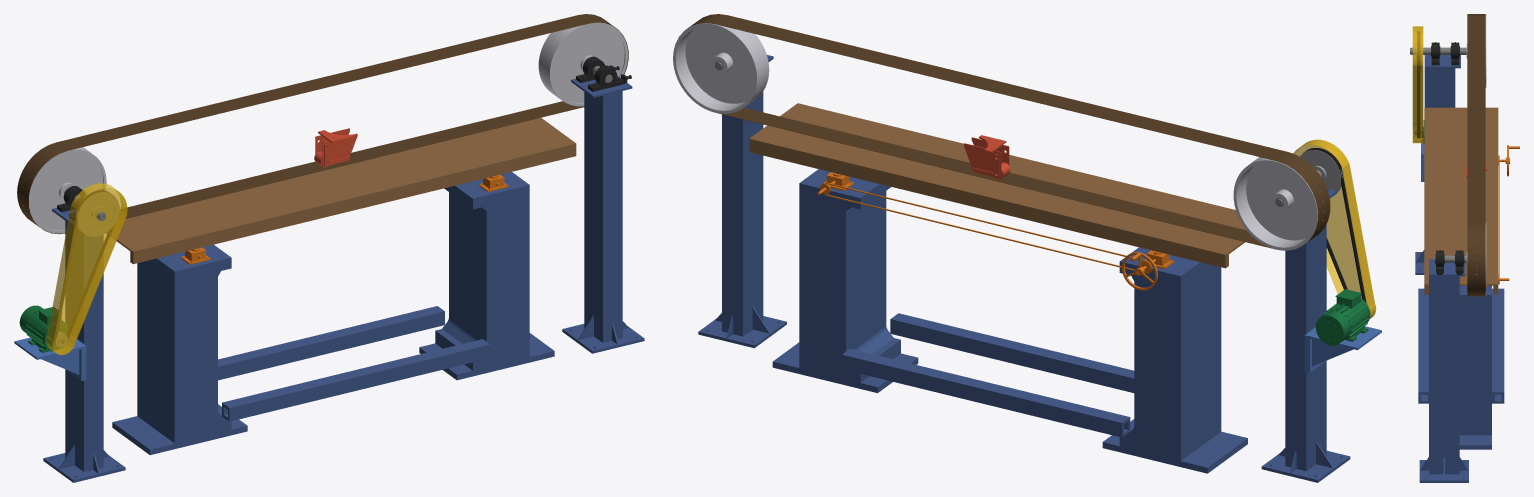
File: lijadora.glb
3 views of the same model, side by side, from view 1: azimuth 30°, elevation 25°; view 2: azimuth 150°, elevation 25°; view 3: azimuth 270°, elevation 25° (orthographic). The views are drawn at different scales.
Visible parts, largest first — view 1: pieza 1 base-1, pieza6x1-2 mesa, pieza 1 base-3, banda lija 150, columna tra, columna del, guardamotor, pieza 2 travesaño trav2, pieza5-1, pieza 2 travesaño trav, rueda tra, rueda del (+6 smaller); view 2: pieza 1 base-1, pieza 1 base-3, pieza6x1-2 mesa, banda lija 150, columna tra, columna del, rueda tra, pieza 2 travesaño trav, pieza5-2, rueda del, pieza 2 travesaño trav2, guardamotor (+7 smaller); view 3: pieza6x1-2 mesa, columna tra, banda lija 150, pieza 1 base-3, columna del, pieza 2 travesaño trav, guardamotor, pieza 2 travesaño trav2, correas V, eje del (pieza 10), cadena mesa, chumacera del 1 (+5 smaller).
Part boxes in pixels (x1,y1,x2,y2): pieza 1 base-1: (112, 244, 247, 454); pieza6x1-2 mesa: (107, 118, 576, 252); pieza 1 base-3: (419, 172, 554, 380); banda lija 150: (17, 14, 628, 234); columna tra: (562, 76, 644, 353); columna del: (43, 208, 125, 482); guardamotor: (46, 183, 127, 354); pieza 2 travesaño trav2: (222, 339, 490, 421); pieza5-1: (130, 145, 576, 264); pieza 2 travesaño trav: (218, 306, 444, 380); rueda tra: (538, 14, 627, 106); rueda del: (17, 143, 106, 233); pieza 1 base-1: (1102, 247, 1247, 473); pieza 1 base-3: (772, 169, 918, 393); pieza6x1-2 mesa: (749, 103, 1246, 255); banda lija 150: (678, 14, 1330, 249); columna tra: (698, 55, 786, 348); columna del: (1261, 188, 1350, 482); rueda tra: (673, 23, 769, 113); pieza 2 travesaño trav: (842, 349, 1130, 437); pieza5-2: (749, 140, 1228, 268); rueda del: (1233, 157, 1323, 250); pieza 2 travesaño trav2: (890, 313, 1134, 392); guardamotor: (1293, 139, 1376, 318); pieza6x1-2 mesa: (1424, 107, 1498, 284); columna tra: (1419, 259, 1468, 482); banda lija 150: (1467, 14, 1485, 296); pieza 1 base-3: (1459, 285, 1491, 449); columna del: (1415, 55, 1460, 274); pieza 2 travesaño trav: (1492, 288, 1504, 403); guardamotor: (1412, 26, 1423, 143); pieza 2 travesaño trav2: (1418, 288, 1428, 403); correas V: (1417, 31, 1419, 137); eje del (pieza 10): (1410, 47, 1466, 54); cadena mesa: (1498, 155, 1499, 284); chumacera del 1: (1450, 42, 1459, 65).
Bounding box in the file's own units: 4.75 × 2.22 × 0.8938.
